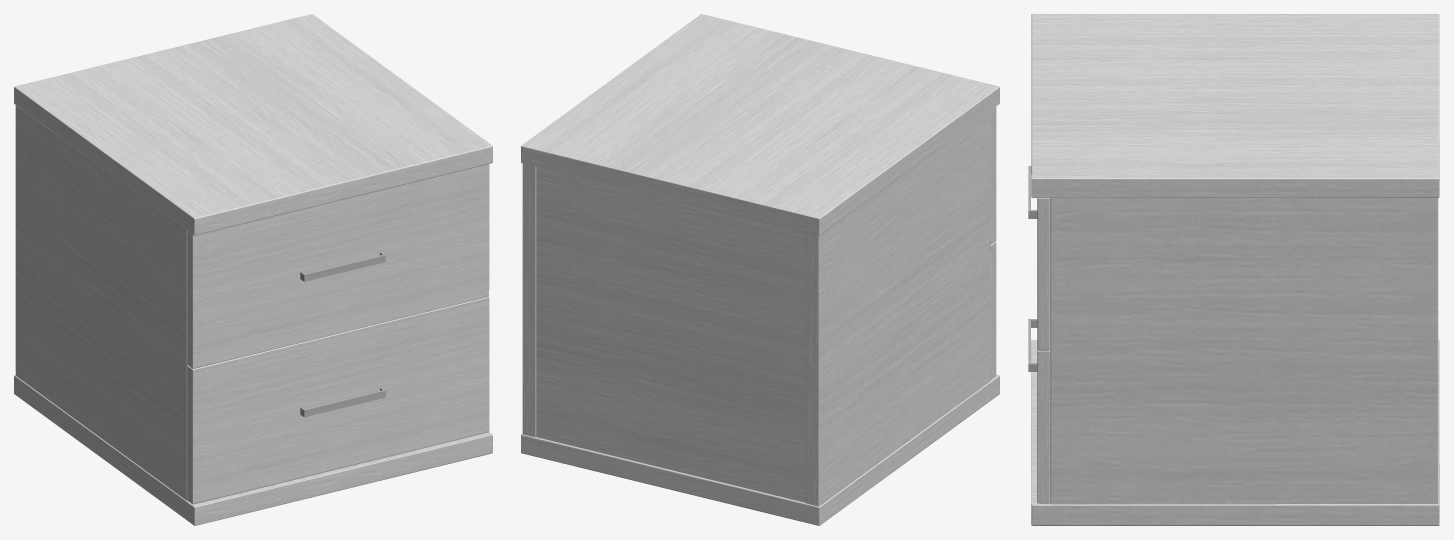
File: Side table.FBX
The picture shows the model from 3 angles, left to right: view 1: azimuth 30°, elevation 25°; view 2: azimuth 150°, elevation 25°; view 3: azimuth 270°, elevation 25°; orthographic projection. The views are drawn at different scales.
Parts seen in each view (by area): view 1: side table; view 2: side table; view 3: side table.
Boxes of the visible parts, <box> form: side table: <box>14,14,492,525</box>; side table: <box>521,14,999,525</box>; side table: <box>1028,14,1439,525</box>.
Bounding box in the file's own units: 49.35 × 48.55 × 52.05.
Materials: 2 (2 with a texture image).
